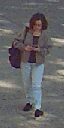person: (11, 10, 57, 124)
